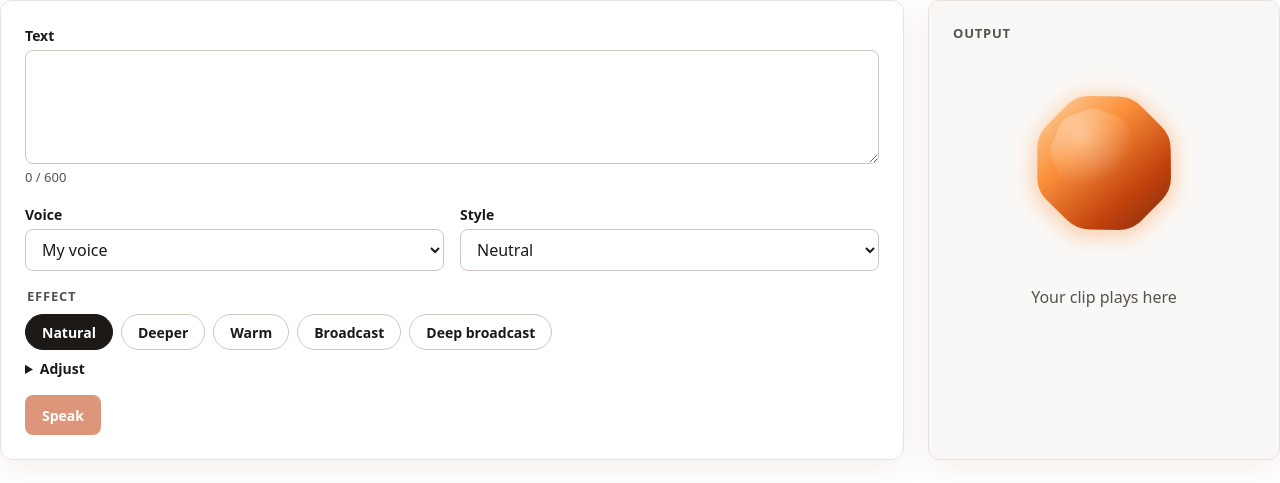
type to speech › shows the hourly limit plainly
Type "Hi." into the text box labelled "Text".
click(452, 107); type("Hi.")  # box [25, 50, 879, 164]
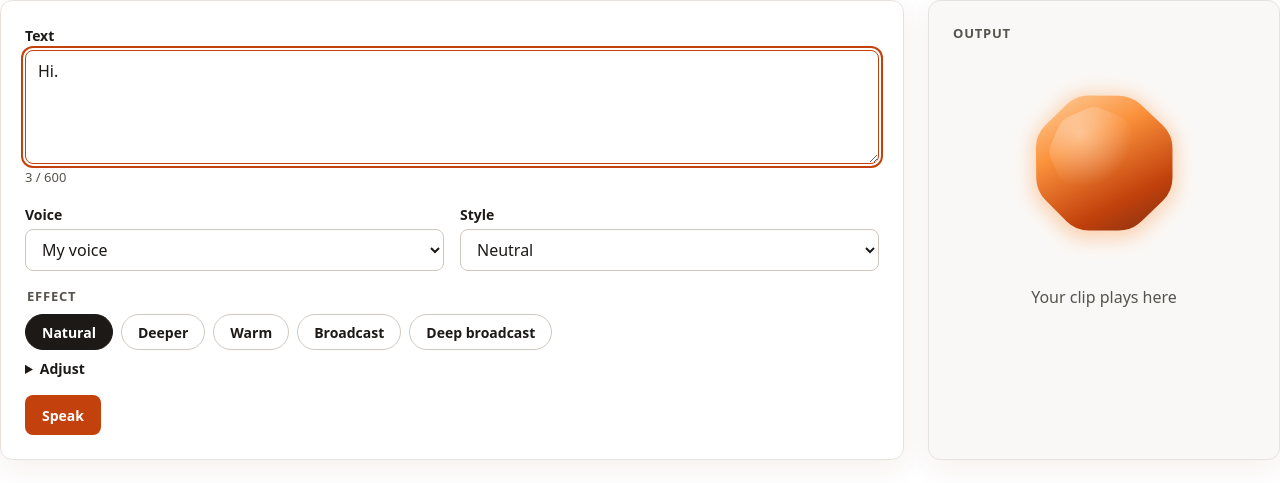
Click the button "Speak".
click(63, 415)  # box [25, 395, 101, 435]
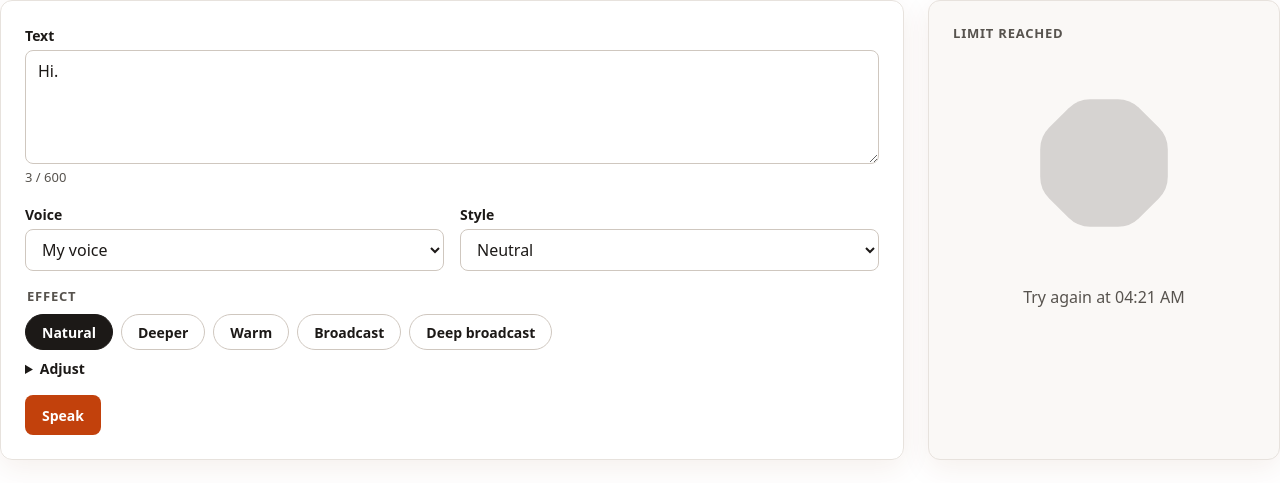
Now the heading "Limit reached" is shown, box [953, 25, 1064, 41]
Now the text "Try again at 04:21 AM" is shown, box [1023, 285, 1185, 309]
